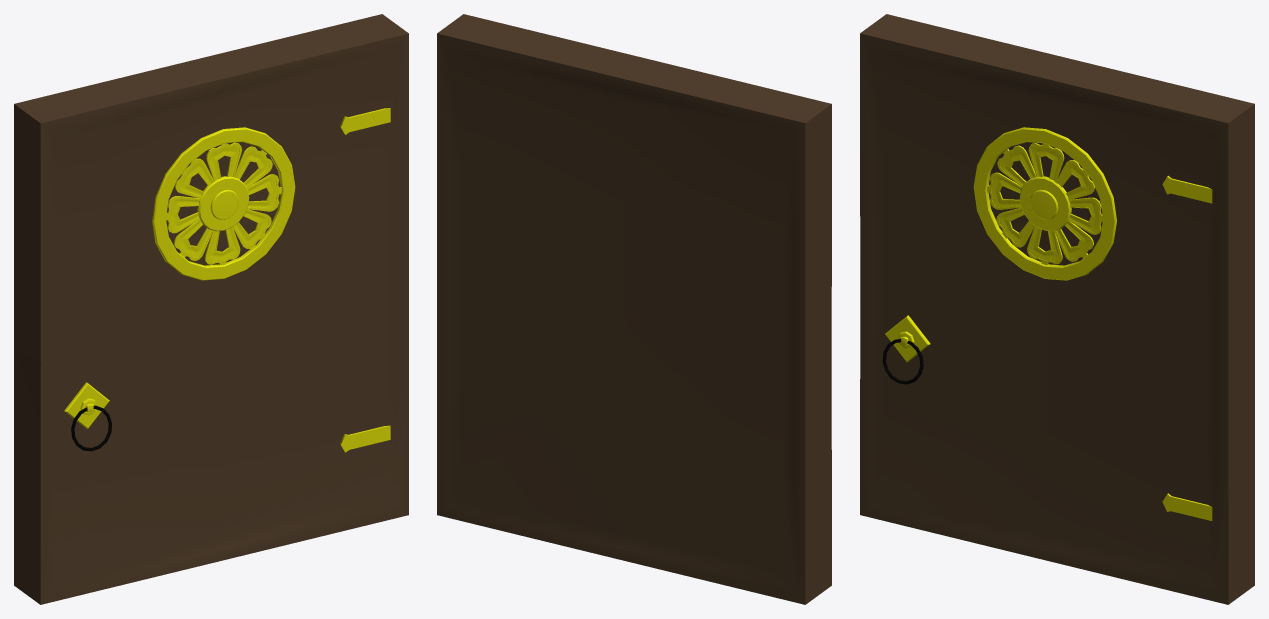
The model's file is geo_R_main_door.fbx.
3 views of the same model, side by side, from view 1: azimuth 30°, elevation 25°; view 2: azimuth 150°, elevation 25°; view 3: azimuth 330°, elevation 25° (orthographic).
Parts seen in each view (by area): view 1: geo_R_door_01, geo_door_lotus_02, geo_door_handle_01, geo_door_mold_01, geo_door_mold_03; view 2: geo_R_door_01; view 3: geo_R_door_01, geo_door_lotus_02, geo_door_handle_01, geo_door_mold_01, geo_door_mold_03.
Boxes of the visible parts, x1,y1,x2,y2 form: geo_R_door_01: (14, 14, 408, 604); geo_door_lotus_02: (152, 127, 295, 280); geo_door_handle_01: (64, 382, 112, 451); geo_door_mold_01: (340, 108, 390, 134); geo_door_mold_03: (340, 425, 390, 452); geo_R_door_01: (437, 14, 831, 604); geo_R_door_01: (860, 14, 1254, 604); geo_door_lotus_02: (973, 127, 1116, 280); geo_door_handle_01: (882, 315, 930, 384); geo_door_mold_01: (1162, 176, 1212, 203); geo_door_mold_03: (1162, 493, 1212, 520).
Bounding box in the file's own units: 4 × 5 × 0.6277.
